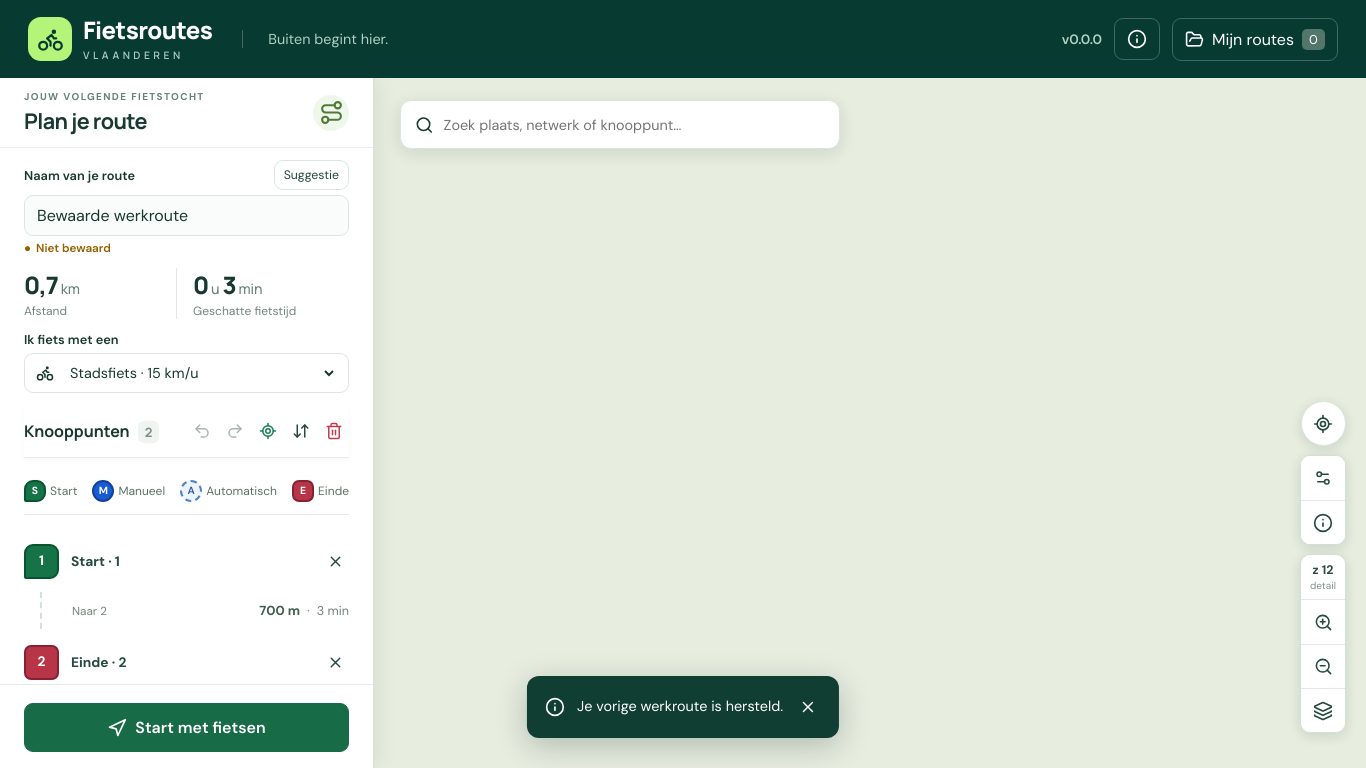
Test: behoudt de werkroute wanneer omkeren tegen eenrichting geen terugweg oplevert
Step 1. Click the button named "Route omkeren" → point(301, 431), box [286,415,316,447]
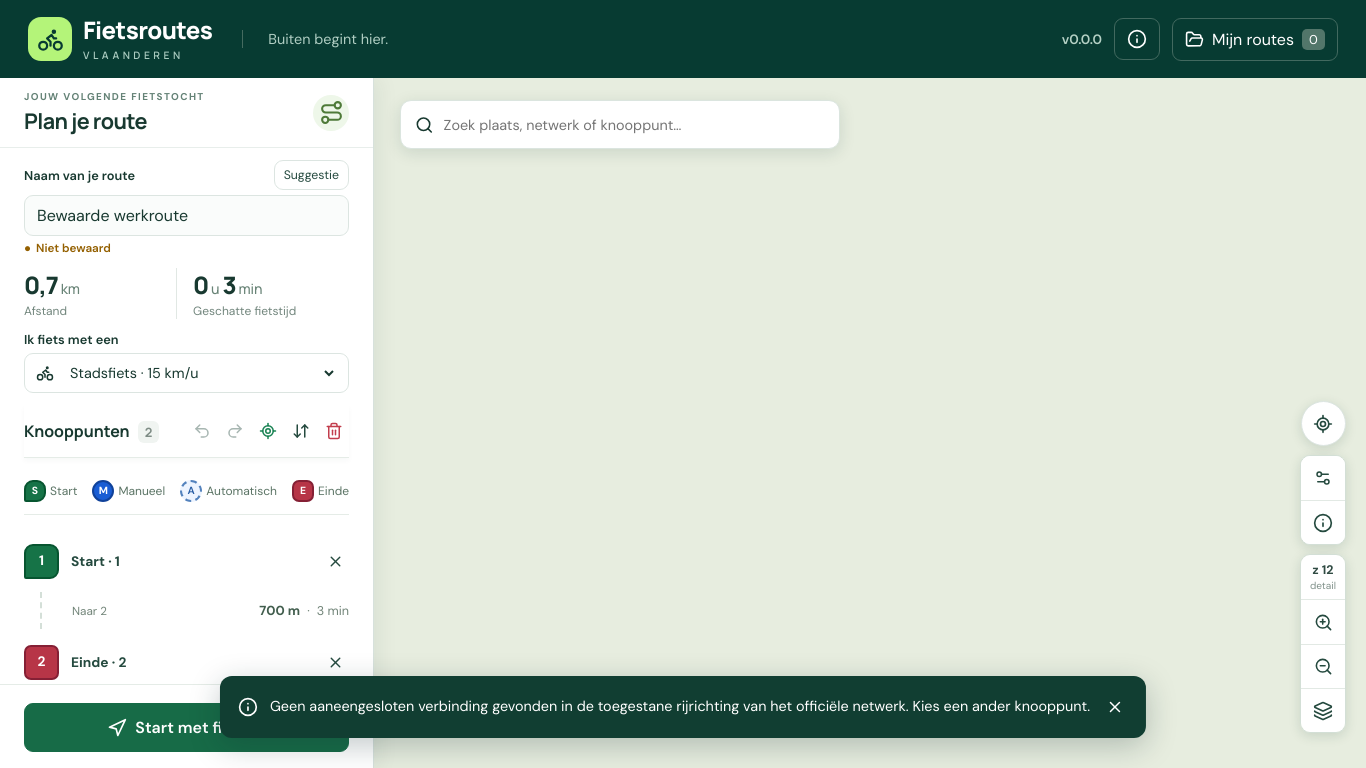
expect the field with id "route-name" holds "Bewaarde werkroute": met, box [24,195,349,236]
expect the text "toegestane rijrichting" is shown: met, box [270,697,1090,715]
